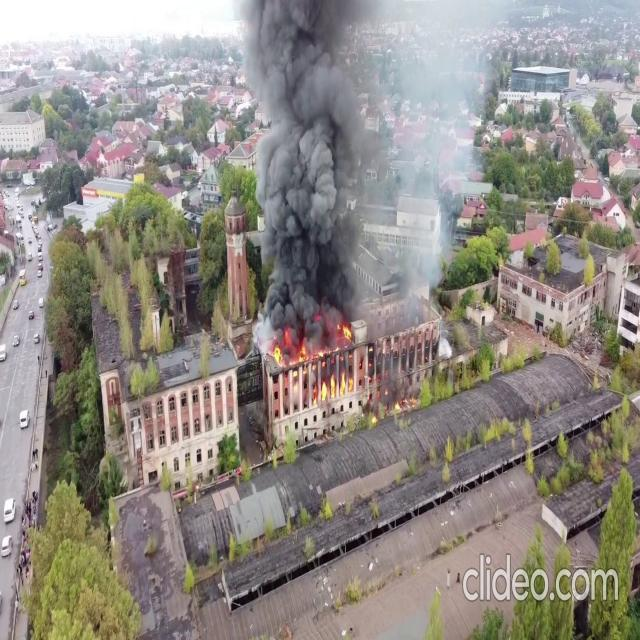Smoke: (236, 2, 402, 350)
